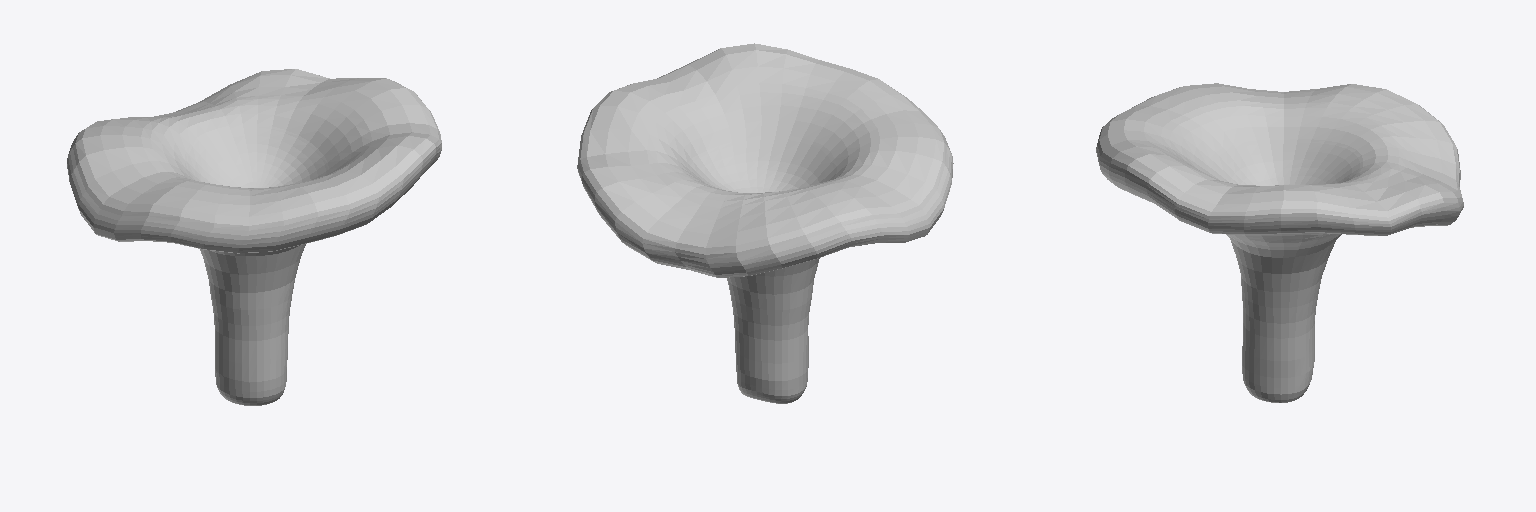
File: lisichka-obyknovennaya.obj
The picture shows the model from 3 angles: view 1: azimuth 30°, elevation 25°; view 2: azimuth 150°, elevation 25°; view 3: azimuth 270°, elevation 25°; orthographic projection.
Parts seen in each view (by area): view 1: Cylinder_Cylinder.001; view 2: Cylinder_Cylinder.001; view 3: Cylinder_Cylinder.001.
Boxes of the visible parts, <box> form: Cylinder_Cylinder.001: <box>67,69,441,405</box>; Cylinder_Cylinder.001: <box>577,43,953,403</box>; Cylinder_Cylinder.001: <box>1096,83,1463,402</box>.
Bounding box in the file's own units: 2.46 × 2.02 × 2.42.